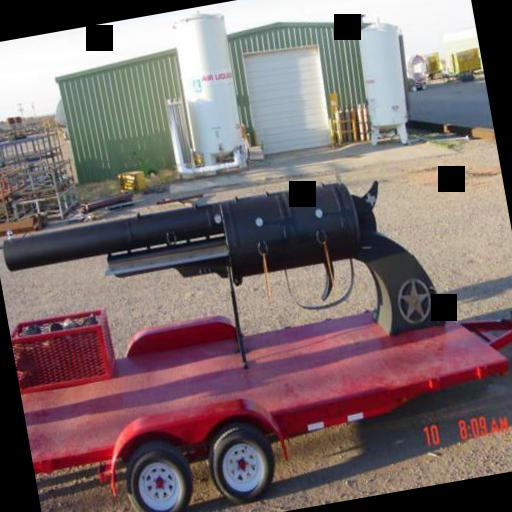Handgun: (0, 149, 450, 407)
